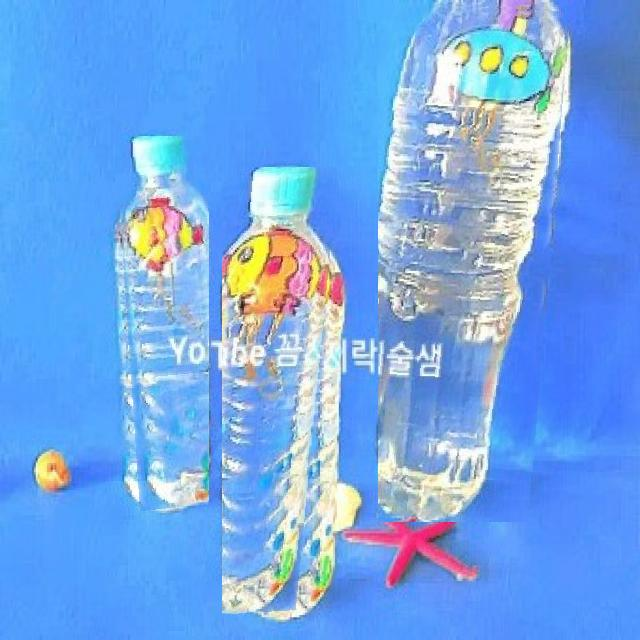plastic bottle: (378, 2, 570, 522), (222, 168, 339, 618), (115, 136, 209, 511)
